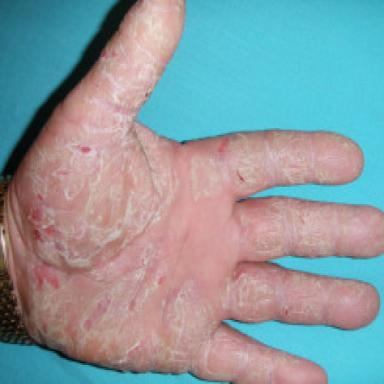eczema: (8, 18, 177, 350), (71, 239, 309, 384), (234, 197, 384, 260), (193, 133, 329, 199), (222, 262, 366, 323)
